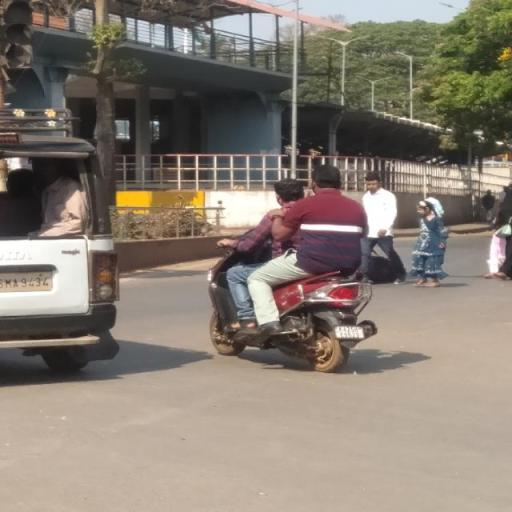bike: (200, 163, 384, 375)
numberplate: (335, 325, 366, 339)
withouthelmet: (314, 166, 340, 190), (276, 180, 302, 202)
